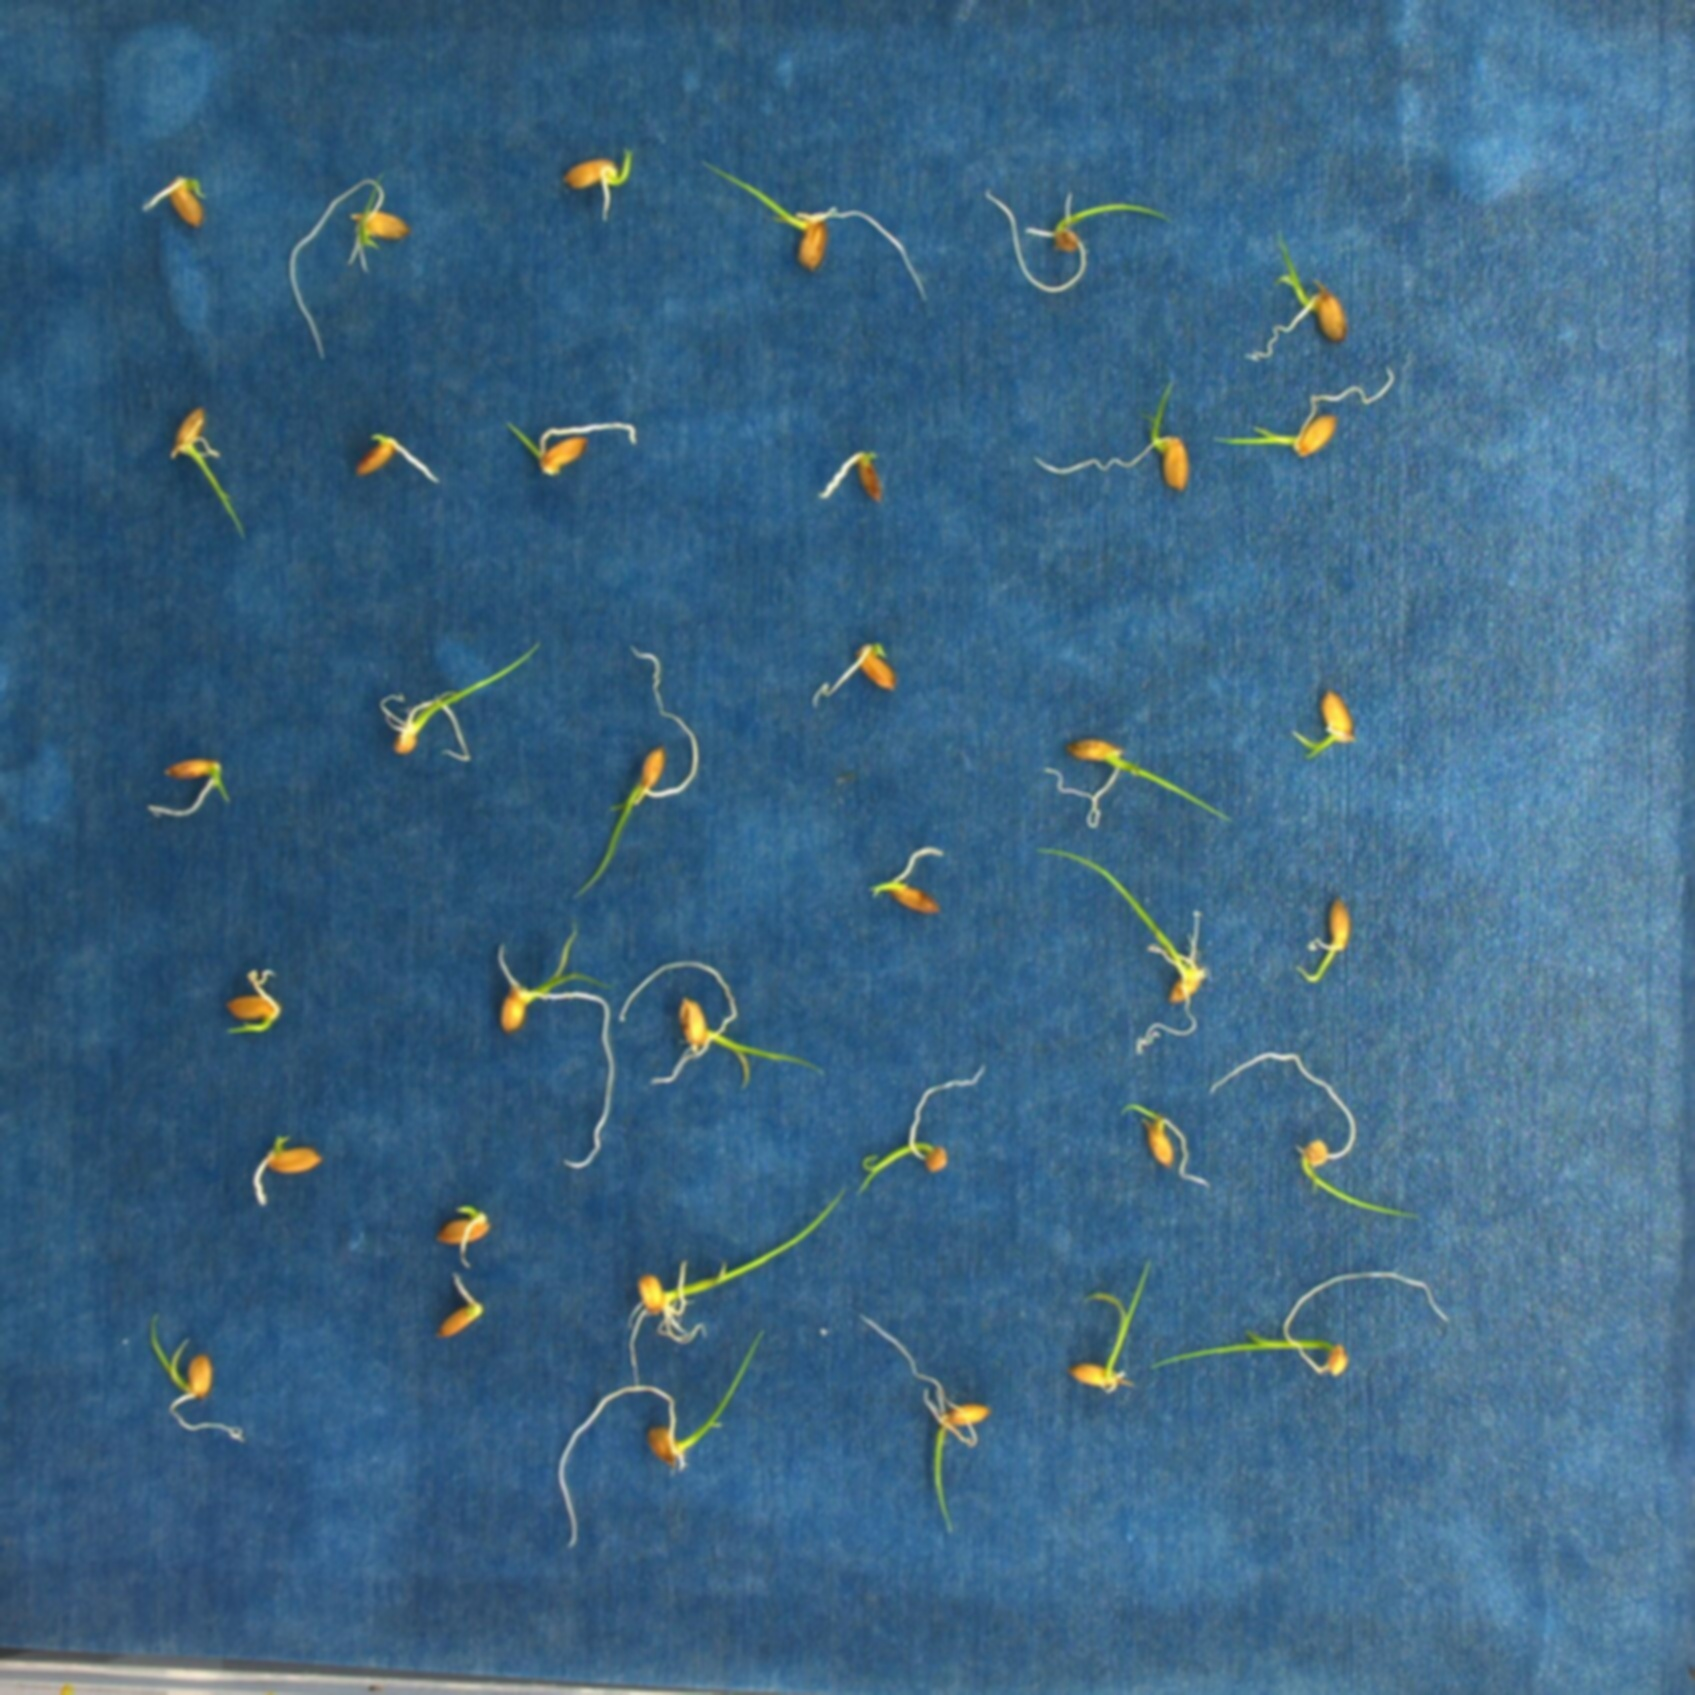not sprout: (813, 636, 893, 705), (251, 1132, 323, 1203), (352, 433, 439, 487), (810, 449, 885, 506), (430, 1201, 494, 1263), (432, 1274, 484, 1338)
sprout: (553, 1326, 767, 1548), (632, 1180, 851, 1391), (1034, 846, 1214, 1051), (1211, 1051, 1420, 1222), (702, 157, 931, 307), (571, 644, 698, 899), (1149, 1270, 1451, 1374), (490, 920, 615, 1170), (858, 1315, 990, 1538), (619, 958, 830, 1093), (289, 177, 407, 366), (373, 638, 543, 761), (1035, 371, 1192, 498), (986, 186, 1172, 290), (854, 1062, 990, 1195), (1046, 739, 1232, 827), (1212, 369, 1391, 453), (143, 1315, 247, 1440), (1245, 230, 1344, 360), (165, 407, 251, 548), (1066, 1259, 1150, 1399), (503, 414, 640, 477), (1122, 1107, 1211, 1184), (560, 144, 632, 225), (1291, 894, 1352, 989), (143, 754, 234, 816), (869, 844, 945, 919), (1291, 683, 1360, 764), (219, 969, 286, 1038), (141, 175, 206, 225)
